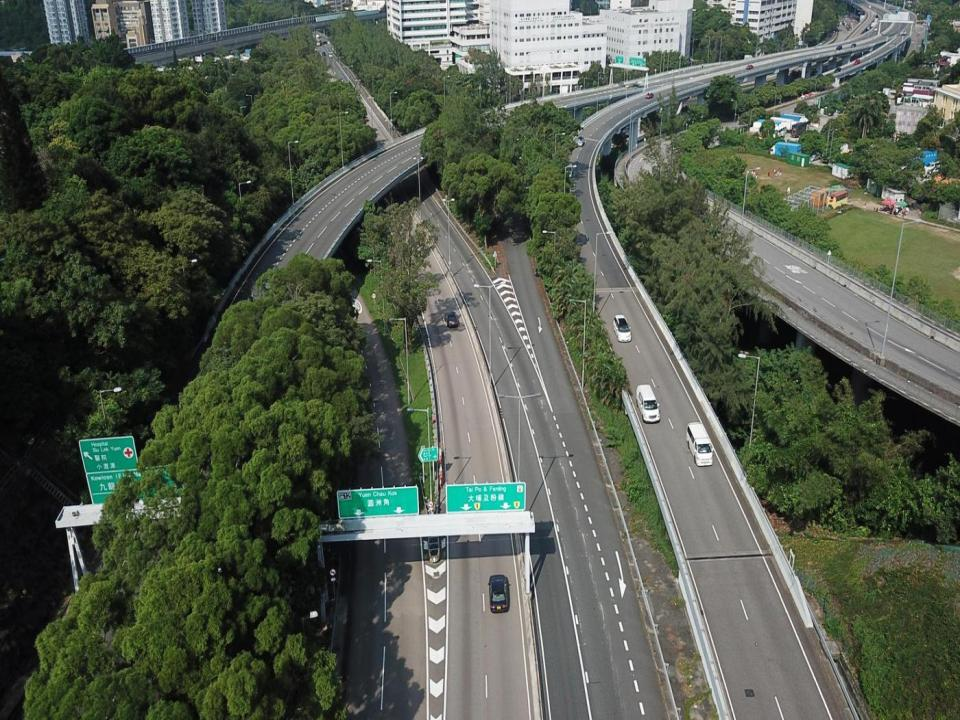car: (487, 574, 511, 613), (612, 314, 632, 342), (443, 311, 460, 328), (808, 150, 821, 162), (564, 162, 573, 178), (575, 135, 585, 147), (644, 91, 654, 99), (826, 109, 834, 117), (834, 44, 842, 52), (745, 63, 754, 70), (836, 107, 844, 114), (834, 67, 842, 74), (853, 58, 861, 65), (850, 42, 856, 49)
truck: (770, 141, 802, 159), (752, 120, 782, 139), (756, 118, 786, 136), (778, 112, 808, 128), (770, 116, 798, 133), (790, 121, 808, 138)
van: (686, 421, 714, 466), (636, 383, 661, 422), (922, 160, 942, 174)
